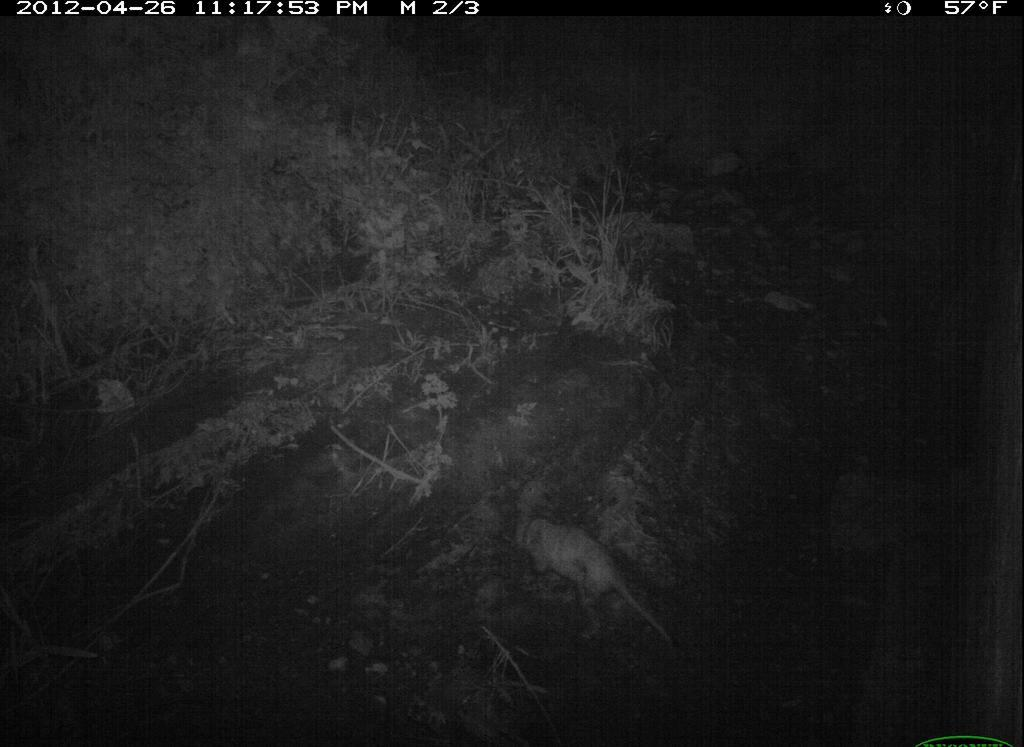opossum: (513, 509, 685, 664)
